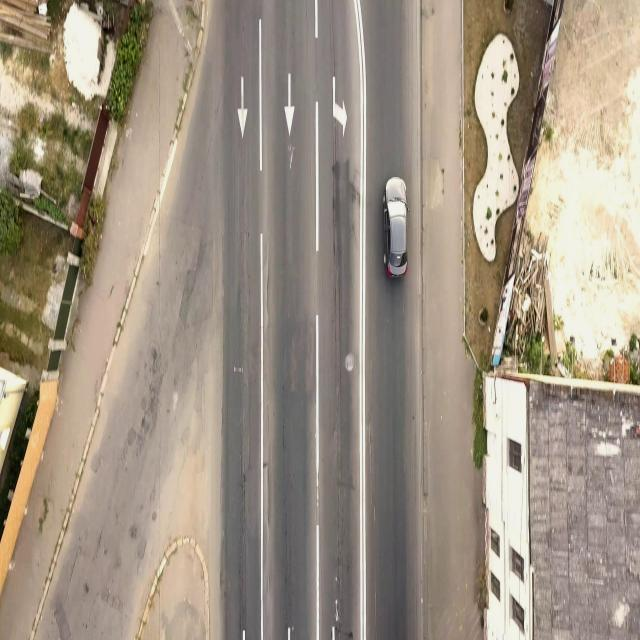Car: (380, 171, 411, 285)
